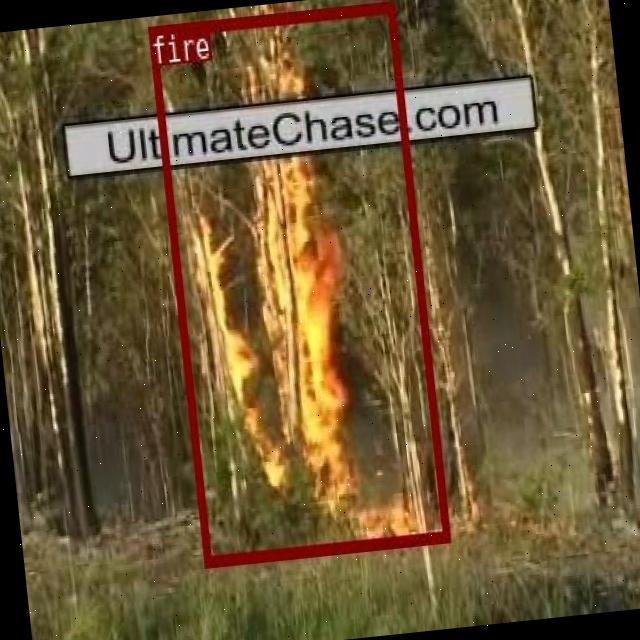fire: (148, 1, 450, 566)
